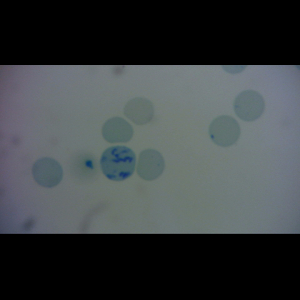aggregate reticulocyte: (99, 145, 138, 182)
erythrocyte: (31, 157, 64, 189), (101, 116, 136, 145), (122, 97, 155, 127)
punctate reticulocyte: (233, 89, 267, 123), (208, 115, 241, 148), (134, 148, 165, 182)
